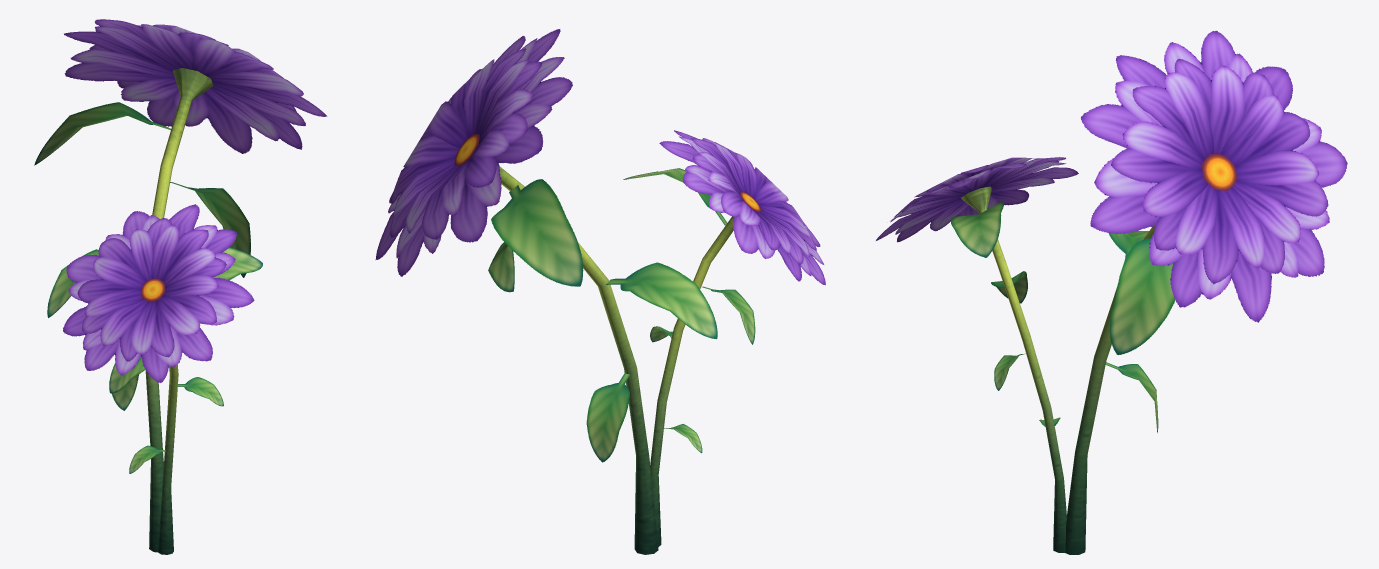
The model's file is ENV1110018.FBX.
3 renders of one model, left to right at view 1: azimuth 30°, elevation 25°; view 2: azimuth 150°, elevation 25°; view 3: azimuth 270°, elevation 25°, orthographic. The views are drawn at different scales.
Parts seen in each view (by area): view 1: smENV1110018; view 2: smENV1110018; view 3: smENV1110018.
Boxes of the visible parts, bbox=[...] form: smENV1110018: bbox=[34, 19, 327, 554]; smENV1110018: bbox=[375, 29, 825, 554]; smENV1110018: bbox=[876, 30, 1347, 554].
Size of the model in its own units: 9.27 by 13.43 by 11.33.
1 material, 1 textured.
